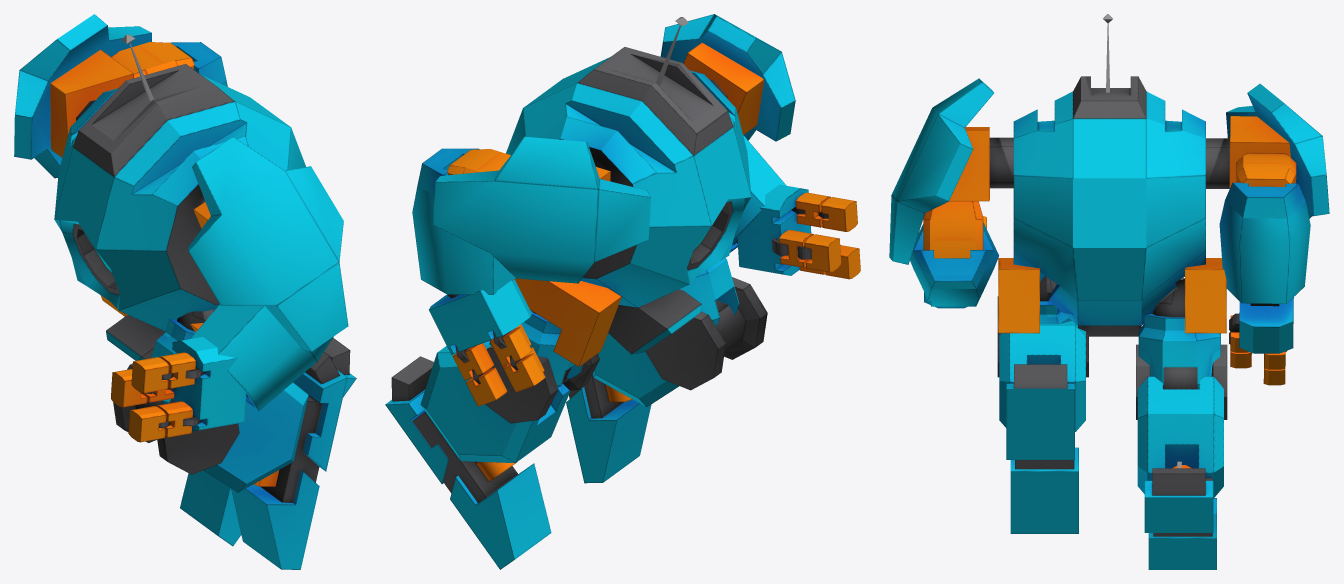
The model's file is Walk7.obj.
3 views of the same model, side by side, from view 1: azimuth 30°, elevation 25°; view 2: azimuth 150°, elevation 25°; view 3: azimuth 270°, elevation 25° (orthographic). The views are drawn at different scales.
Parts seen in each view (by area): view 1: Plane001, Object006, Object002, Object014, Object008, Object013, Object007, Object011, Object012, Object003; view 2: Plane001, Object002, Object011, Object010, Object013, Object006, Object004, Object008, Object003, Object014, Object012, Object007 (+1 smaller); view 3: Plane001, Object006, Object014, Object010, Object003, Object002, Object011, Object013, Object009, Object004, Object007, Object005 (+2 smaller).
Boxes of the visible parts, box(x1,y1,x2,y2) form: Plane001: box(54, 64, 305, 360); Object006: box(187, 137, 348, 351); Object002: box(14, 14, 194, 178); Object014: box(231, 352, 347, 569); Object008: box(111, 337, 246, 442); Object013: box(113, 363, 308, 492); Object007: box(190, 304, 333, 410); Object011: box(180, 338, 356, 546); Object012: box(151, 309, 215, 404); Object003: box(171, 42, 227, 86); Plane001: box(506, 47, 751, 366); Object002: box(432, 136, 650, 283); Object011: box(385, 356, 551, 569); Object010: box(420, 341, 599, 463); Object013: box(592, 277, 767, 406); Object006: box(660, 14, 795, 141); Object004: box(429, 279, 545, 406); Object008: box(736, 184, 860, 279); Object003: box(412, 148, 515, 294); Object014: box(566, 374, 651, 483); Object012: box(679, 258, 739, 326); Object007: box(730, 135, 786, 252); Plane001: box(998, 76, 1226, 336); Object006: box(889, 78, 993, 264); Object014: box(1006, 364, 1078, 533); Object010: box(1136, 344, 1227, 498); Object003: box(1219, 182, 1310, 303); Object002: box(1226, 83, 1329, 218); Object011: box(1144, 465, 1216, 569); Object013: box(997, 296, 1088, 431); Object009: box(1138, 278, 1220, 389); Object004: box(1229, 297, 1293, 385); Object007: box(910, 222, 998, 306); Object005: box(989, 137, 1013, 188).
Bounding box in the file's own units: 143 × 228 × 182.
